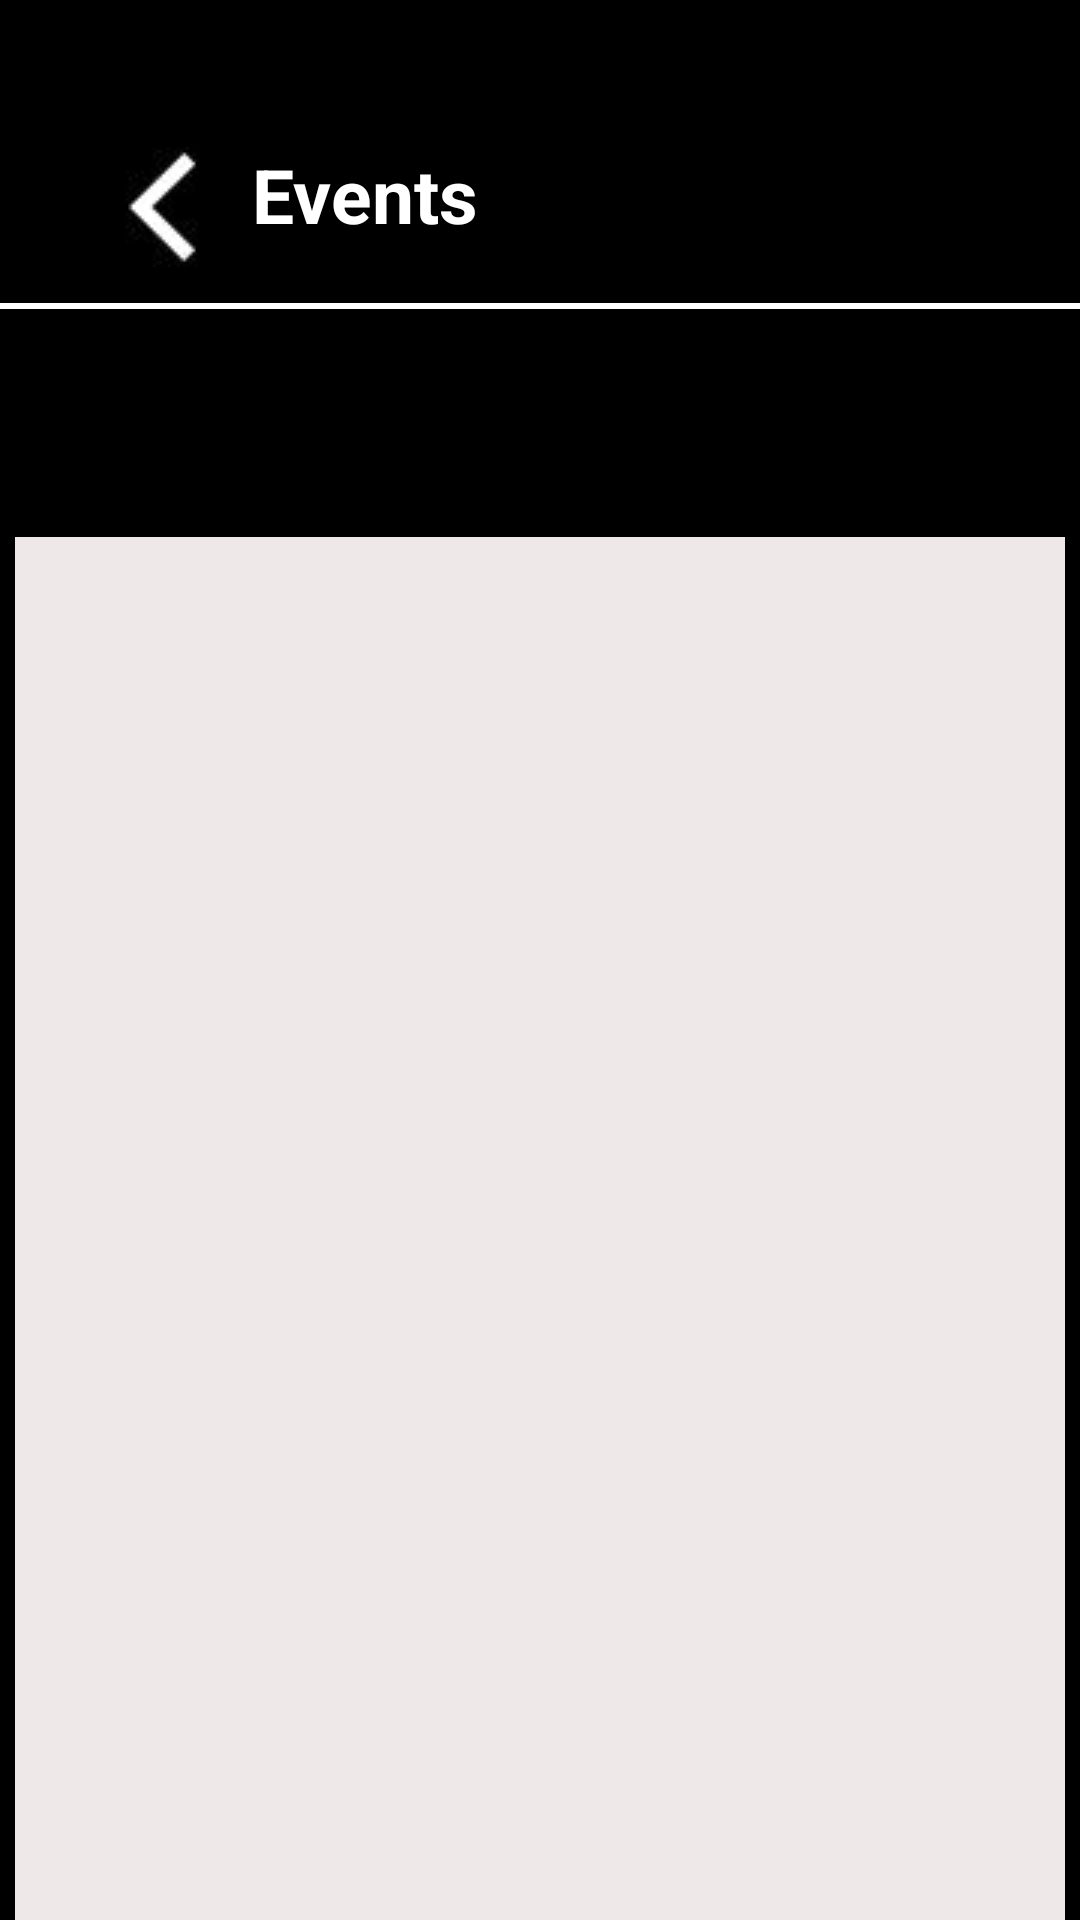

Where to tap for icons on this 1080x1920 app screen, as point (x, y):
arrow: point (162, 207)
